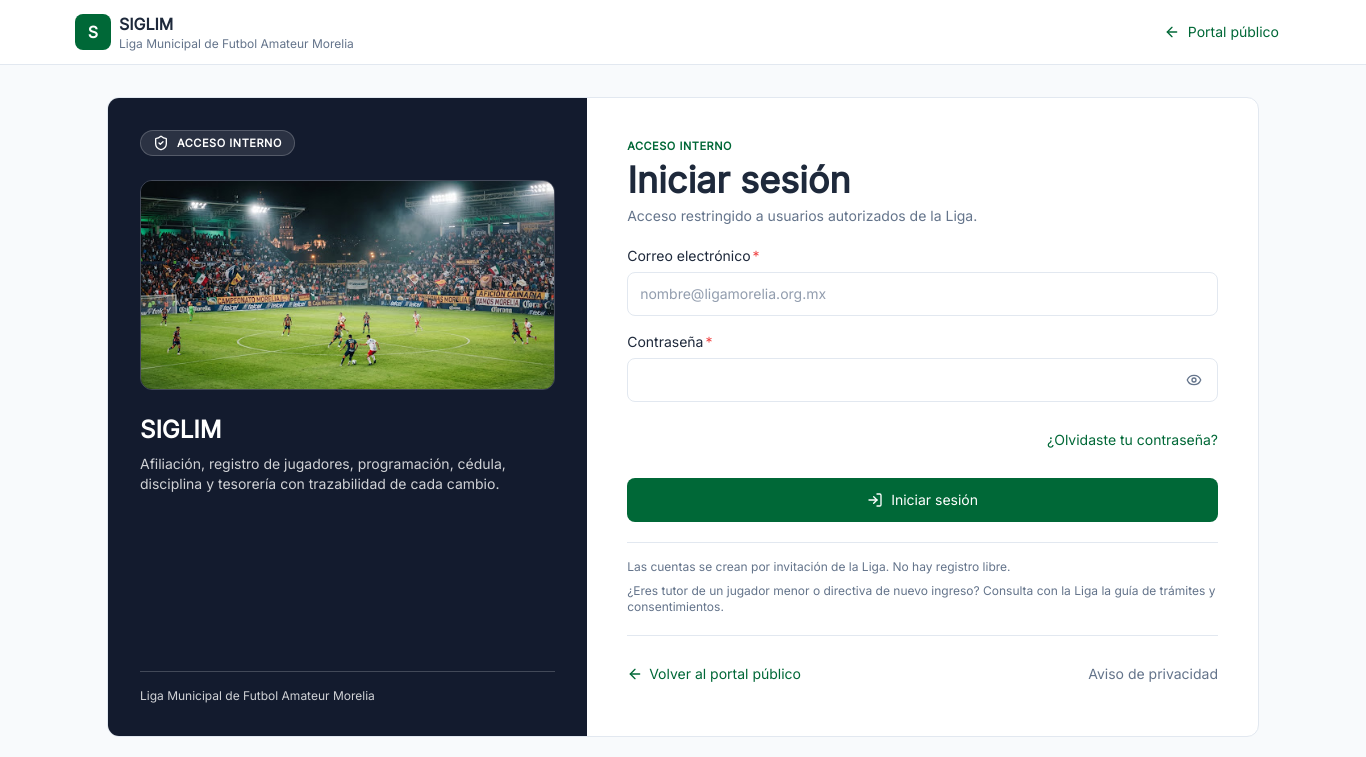
Test: InicioSesion › H-01.2: no revela si falló el correo o la contraseña
Type "ana@ejemplo.mx" into the field labelled "Correo electrónico*" at (923, 294), box [627,272,1218,316]
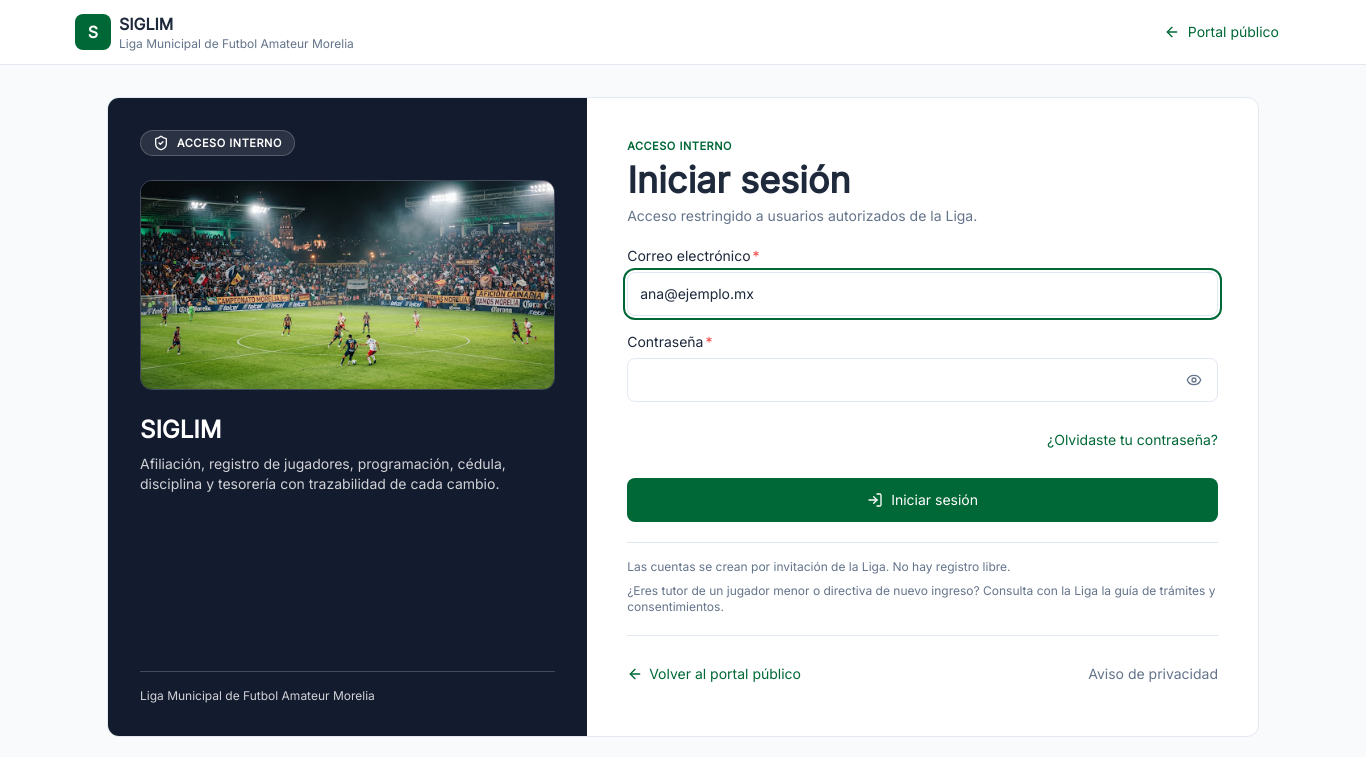
Type "incorrecta" into the password field labelled "Contraseña*" at (923, 380), box [627,358,1218,402]
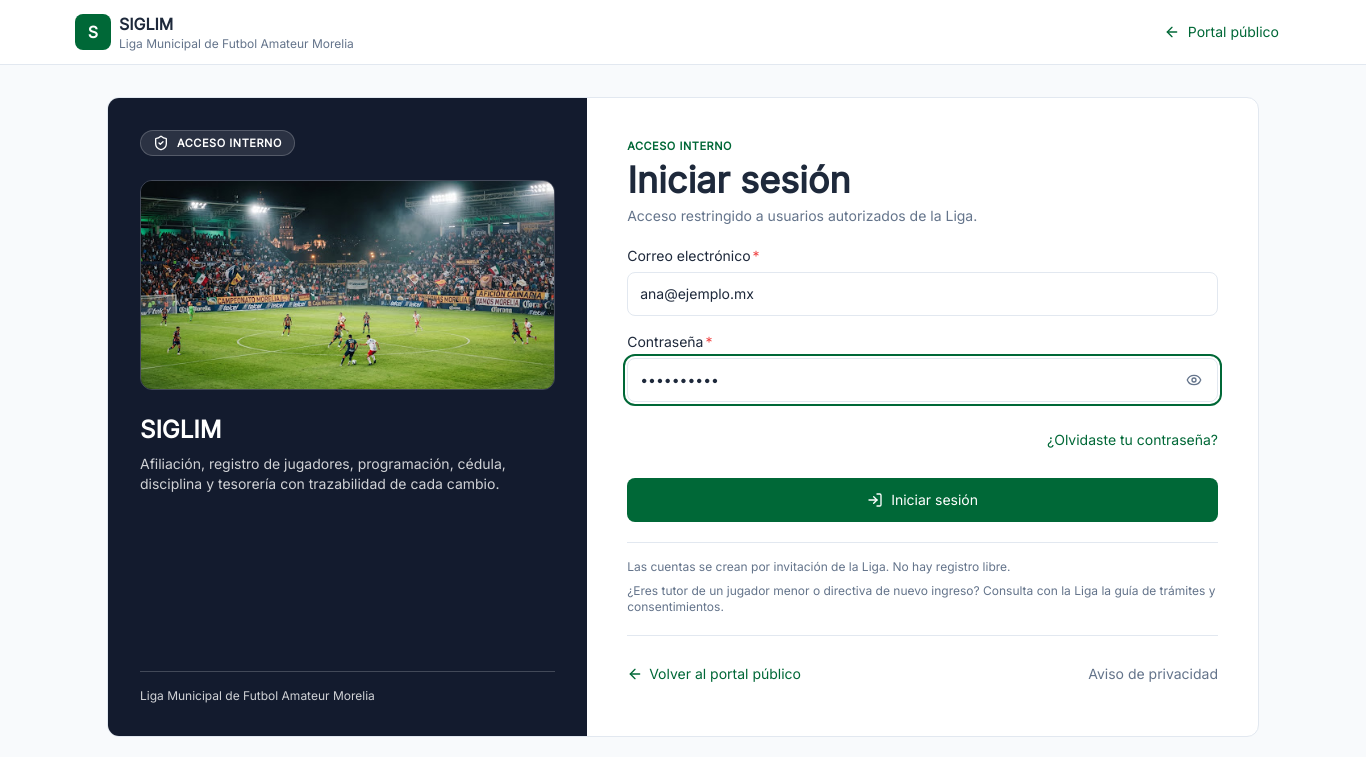
Click the button "Iniciar sesión" at (923, 500), box [627,478,1218,522]
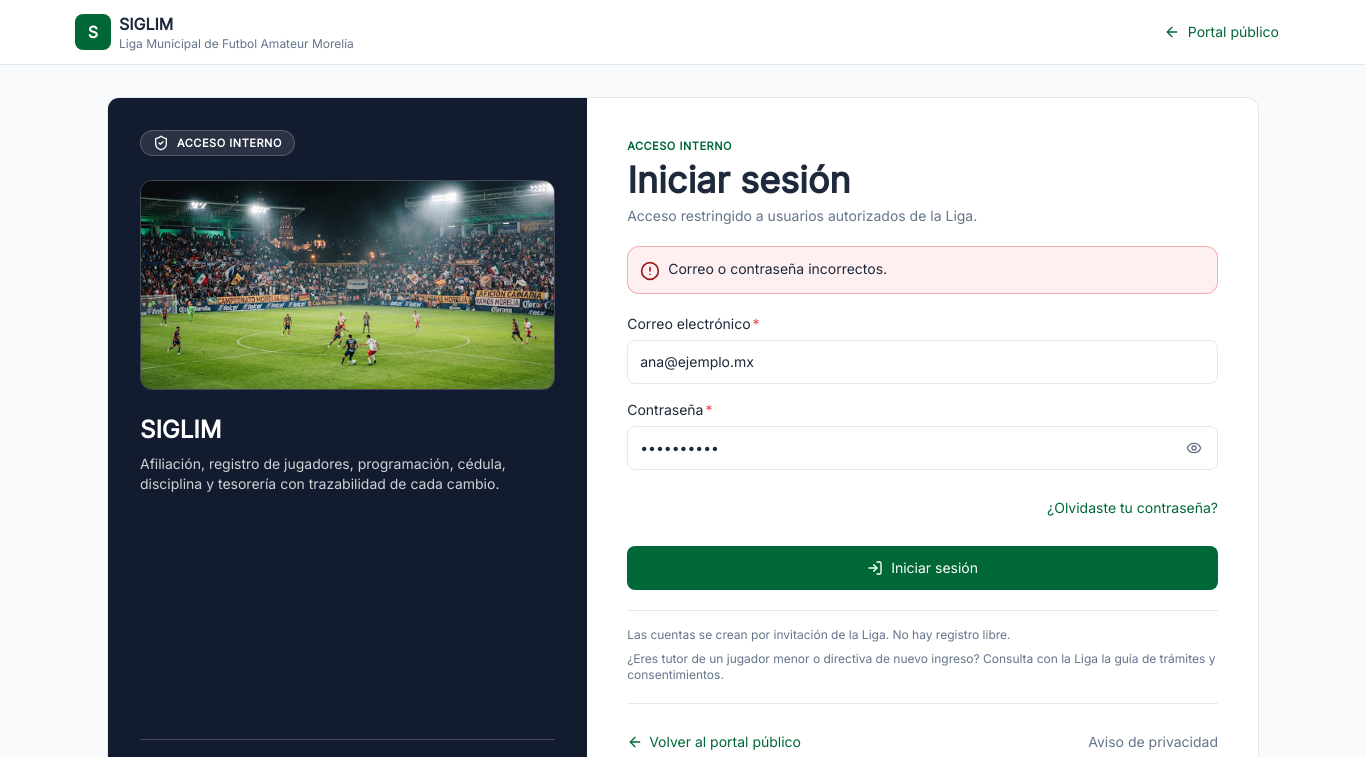
Expected: the heading "Iniciar sesión" is shown, [627,158,851,202]
Expected: the message reads "Correo o contraseña incorrectos.", [668,260,887,277]
